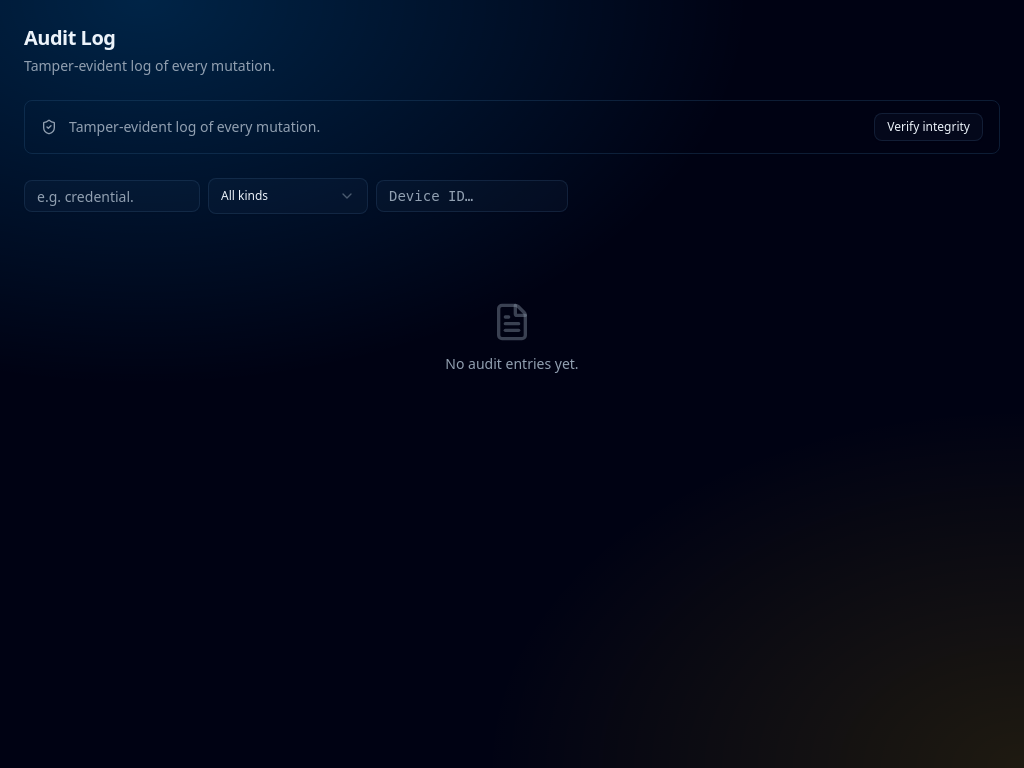
Test: AuditPage › (d) Verify integrity 클릭 시 all_valid=true 이면 성공 배너를 표시한다
Expected: the element with test id "audit-empty" is shown, [445, 302, 579, 373]
Click the button "Verify integrity".
click(929, 127)  # box [874, 113, 983, 141]
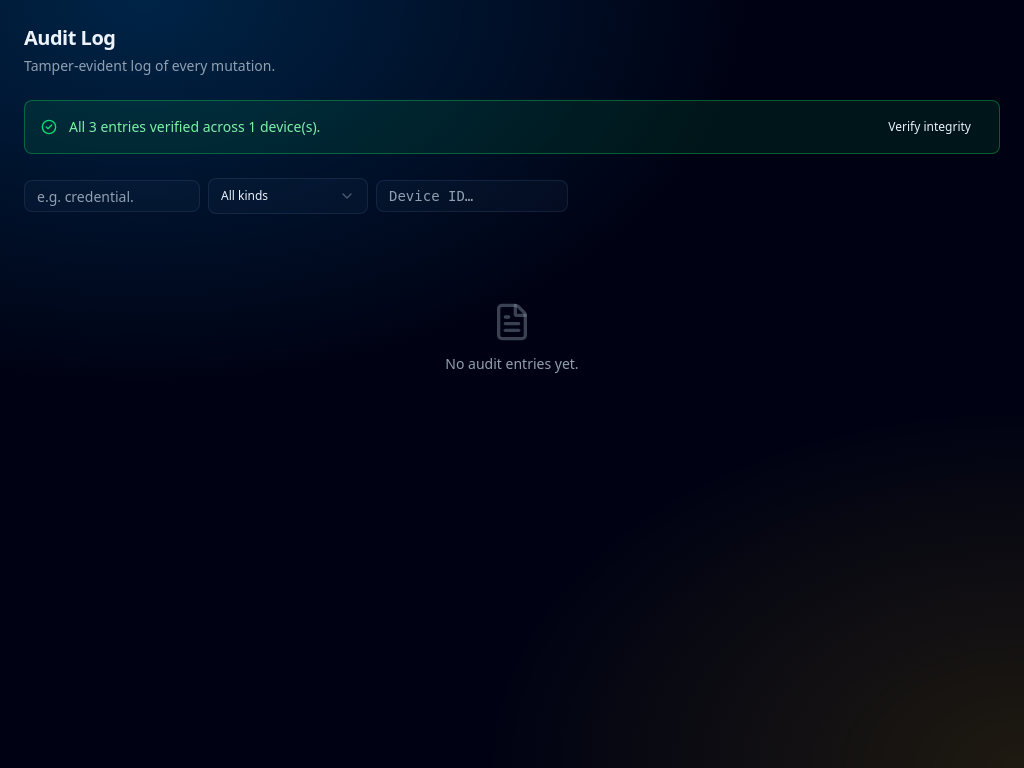
Result: the message "All 3 entries verified across 1 device(s). Verify integrity" is shown at [24, 100, 1000, 154]
